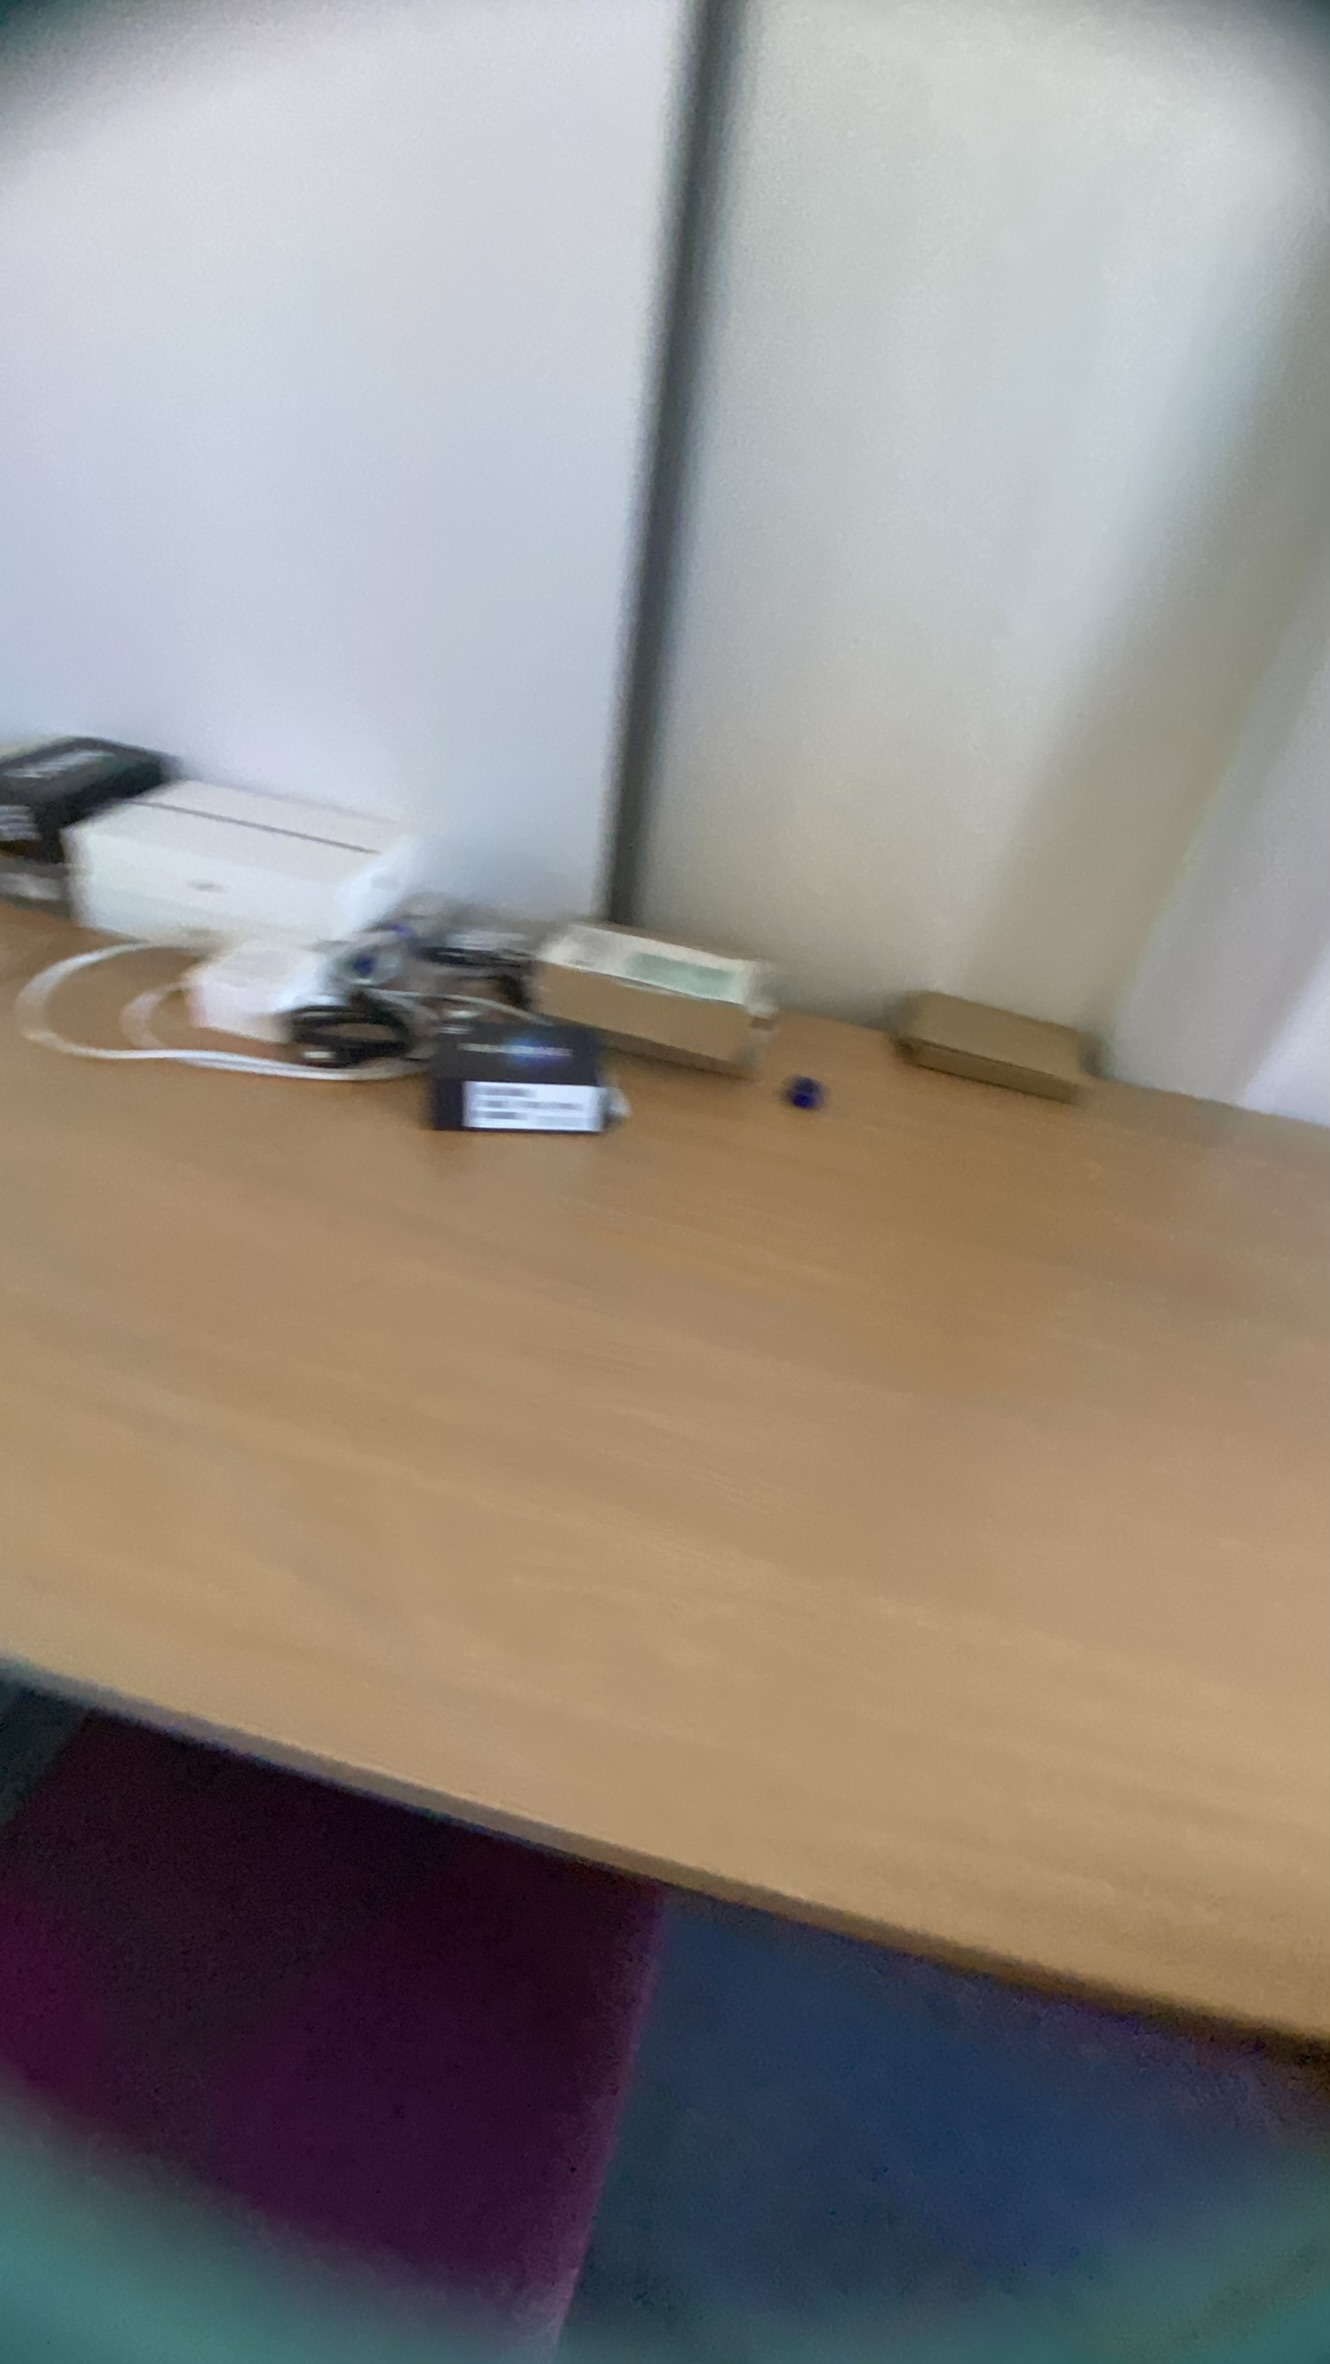table: (36, 688, 1311, 2364)
